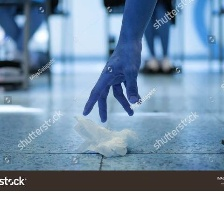tissue: (68, 110, 142, 161)
